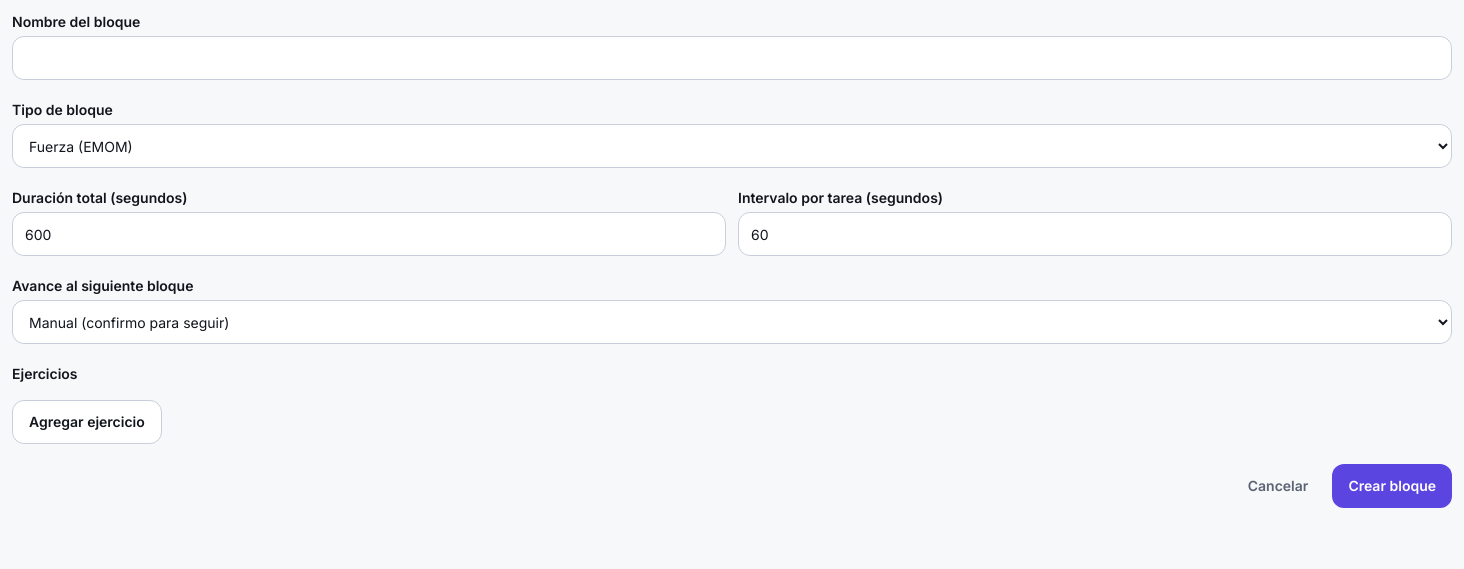
Test case: BlockForm › valida que haya al menos un ejercicio antes de enviar
Type "Fuerza EMOM 12'" into the field labelled "Nombre del bloque".
click(732, 58); type("Fuerza EMOM 12'")  # box [12,36,1452,80]
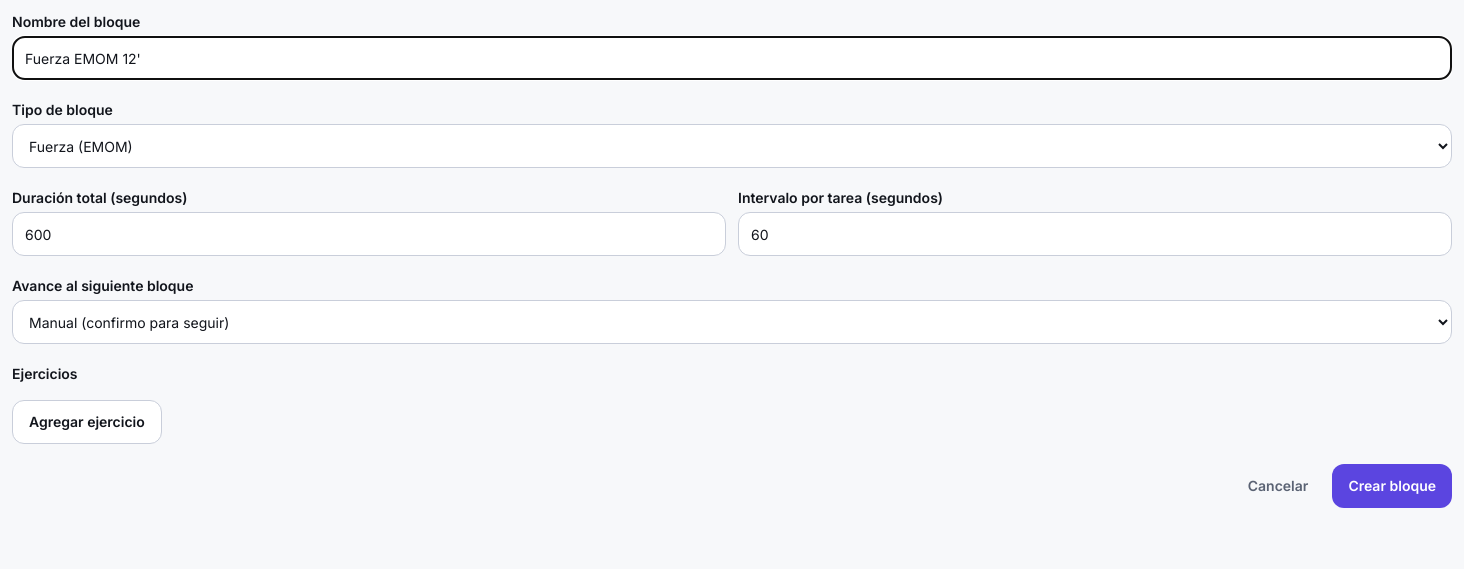
Click the button "Crear bloque".
click(1392, 486)  # box [1332,464,1452,508]
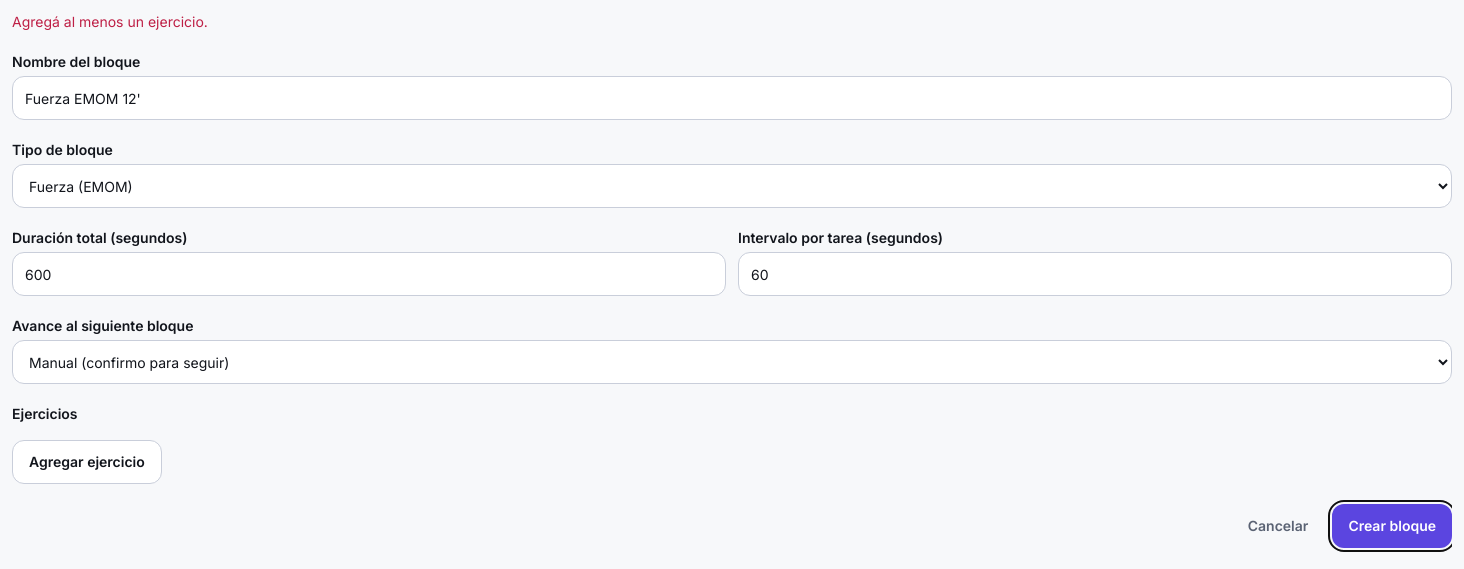
Check: the text "Agregá al menos un ejercicio." is shown, box [12,13,208,30]
